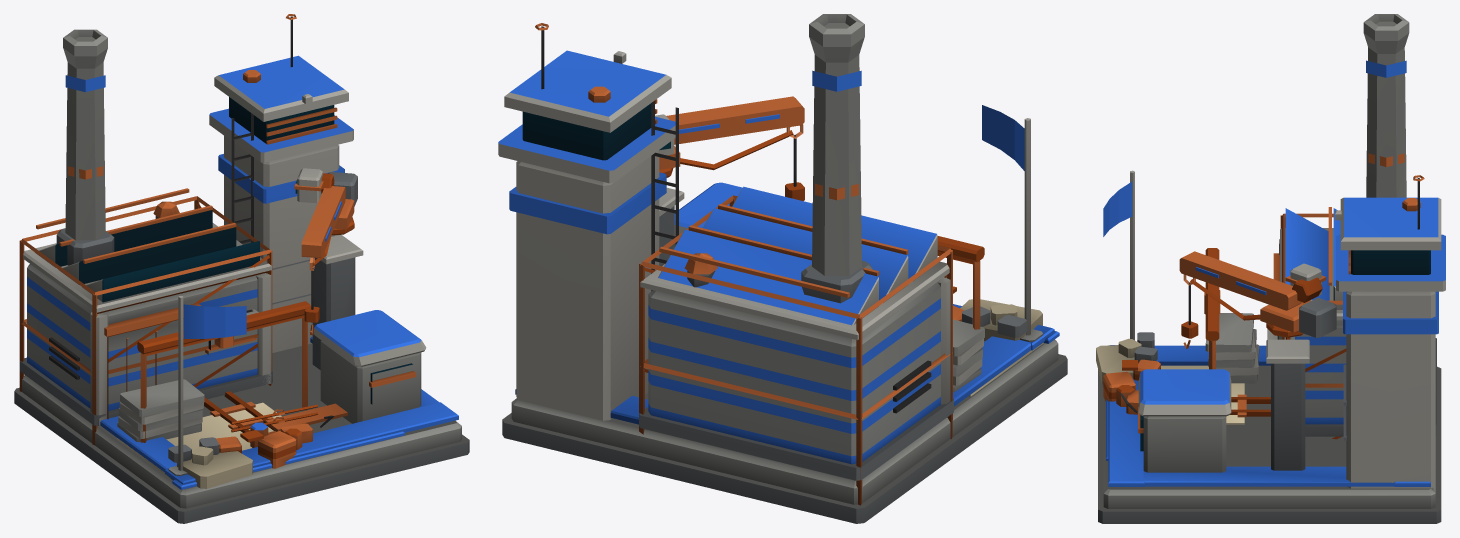
3 views of the same model, side by side, from view 1: azimuth 30°, elevation 25°; view 2: azimuth 150°, elevation 25°; view 3: azimuth 270°, elevation 25° (orthographic). The views are drawn at different scales.
Visible parts, largest first — view 1: body, scaffoldFrame, spinCrane, swayFlag; view 2: body, scaffoldFrame, spinCrane, swayFlag; view 3: body, spinCrane, swayFlag, scaffoldFrame, swayHook.
Boxes of the visible parts, bbox=[...] form: body: bbox=[14, 14, 469, 523]; scaffoldFrame: bbox=[19, 196, 272, 445]; spinCrane: bbox=[294, 168, 357, 270]; swayFlag: bbox=[183, 304, 246, 338]; body: bbox=[498, 14, 1067, 523]; scaffoldFrame: bbox=[639, 195, 952, 505]; spinCrane: bbox=[655, 96, 804, 170]; swayFlag: bbox=[982, 105, 1024, 170]; body: bbox=[1096, 14, 1445, 523]; spinCrane: bbox=[1179, 251, 1336, 337]; swayFlag: bbox=[1103, 181, 1132, 236]; scaffoldFrame: bbox=[1280, 213, 1346, 439]; swayHook: bbox=[1181, 282, 1198, 348].
Size of the model in its own units: 3 by 3.68 by 3.06.
